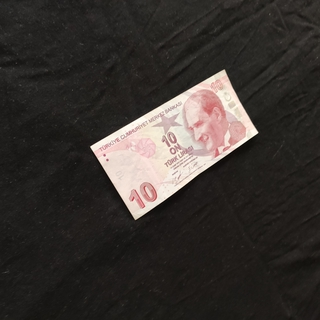10TLFront: (88, 67, 259, 220)
